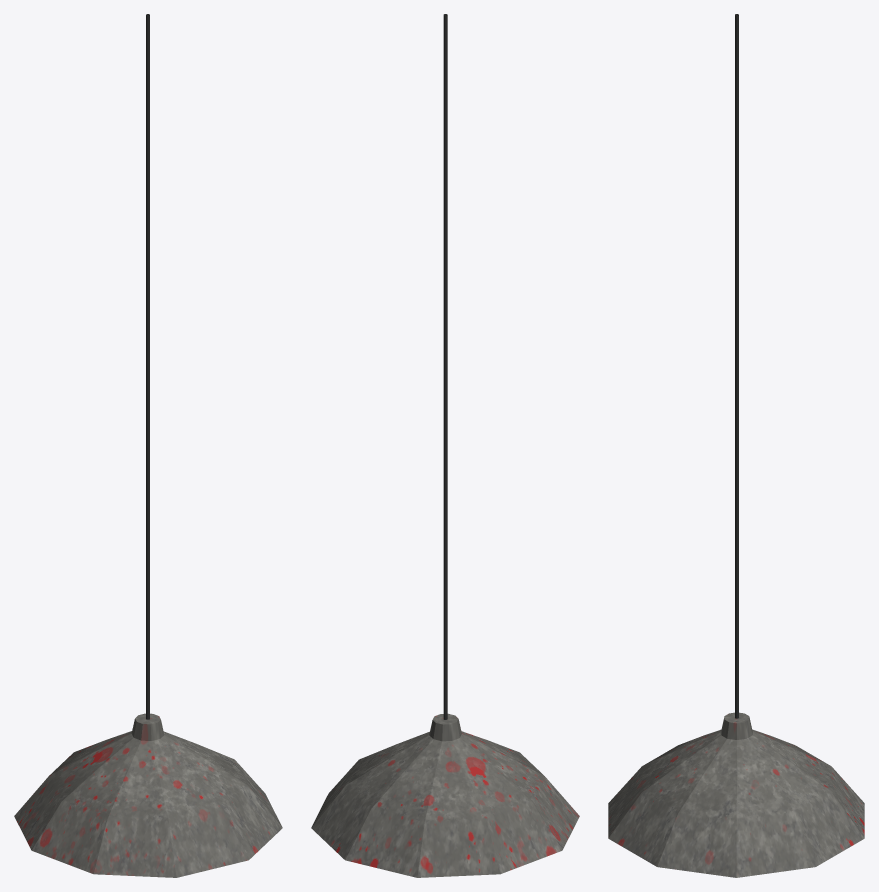
The model's file is Lampa.fbx.
The picture shows the model from 3 angles, left to right: view 1: azimuth 30°, elevation 25°; view 2: azimuth 150°, elevation 25°; view 3: azimuth 270°, elevation 25°; orthographic projection.
Parts seen in each view (by area): view 1: pCone1; view 2: pCone1; view 3: pCone1.
Part boxes in pixels (bbox=[...]): pCone1: bbox=[14, 14, 282, 877]; pCone1: bbox=[311, 14, 579, 877]; pCone1: bbox=[608, 14, 864, 877].
Size of the model in its own units: 3.2 by 10.54 by 3.04.
Materials: 1 (1 with a texture image).
